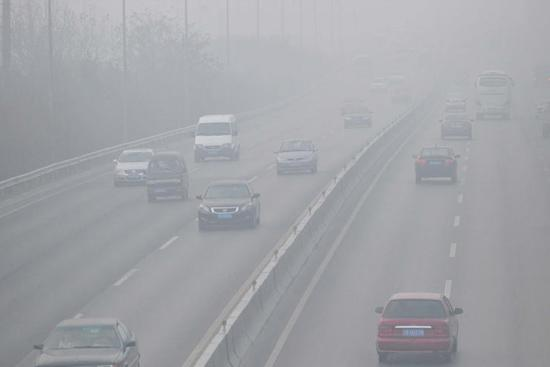bus: (472, 69, 516, 121)
car: (374, 290, 464, 366), (32, 316, 142, 367), (196, 178, 262, 230), (192, 112, 241, 161), (144, 151, 190, 203), (411, 142, 461, 184), (273, 137, 319, 176), (114, 149, 156, 186), (341, 103, 376, 129), (438, 112, 472, 138), (385, 74, 410, 101), (443, 93, 468, 110), (368, 75, 389, 92)
